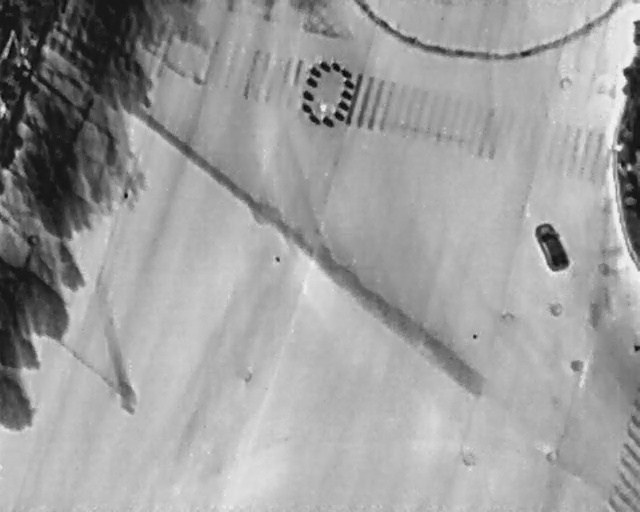Car: (531, 219, 573, 274)
